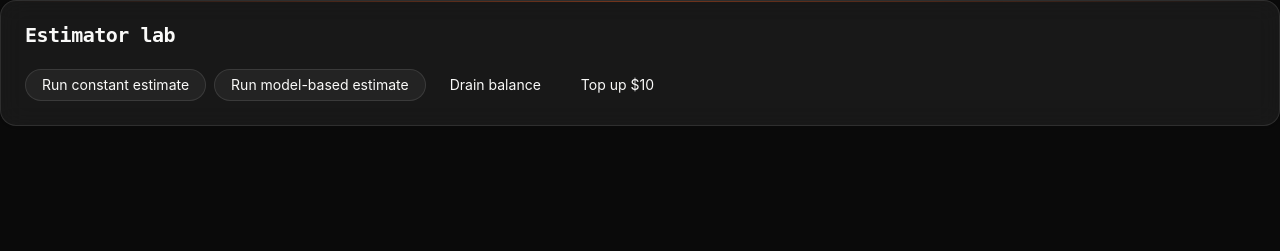
LabRunner › reports an unexpected drain error honestly
This screenshot has width=1280, height=251.
Click the button "Drain balance" at x=495, y=85, box [434,69,557,101]
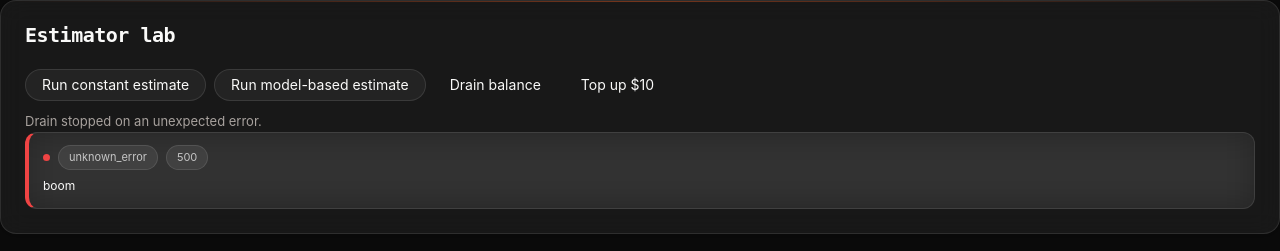
Expected: the text "Drain stopped on an unexpected error." is shown, [25,113,262,129]
